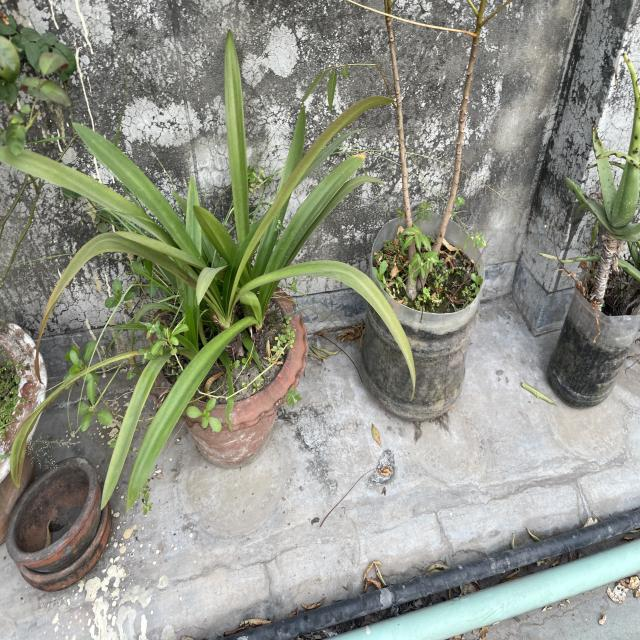Breeding Place: (164, 290, 305, 457), (370, 208, 468, 422), (8, 456, 109, 588), (552, 262, 639, 409), (2, 300, 48, 529)
